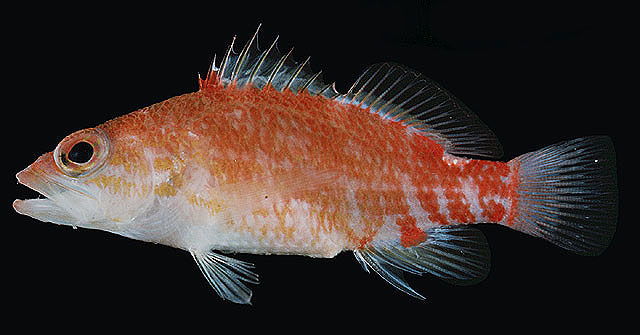fish: (13, 24, 616, 305)
